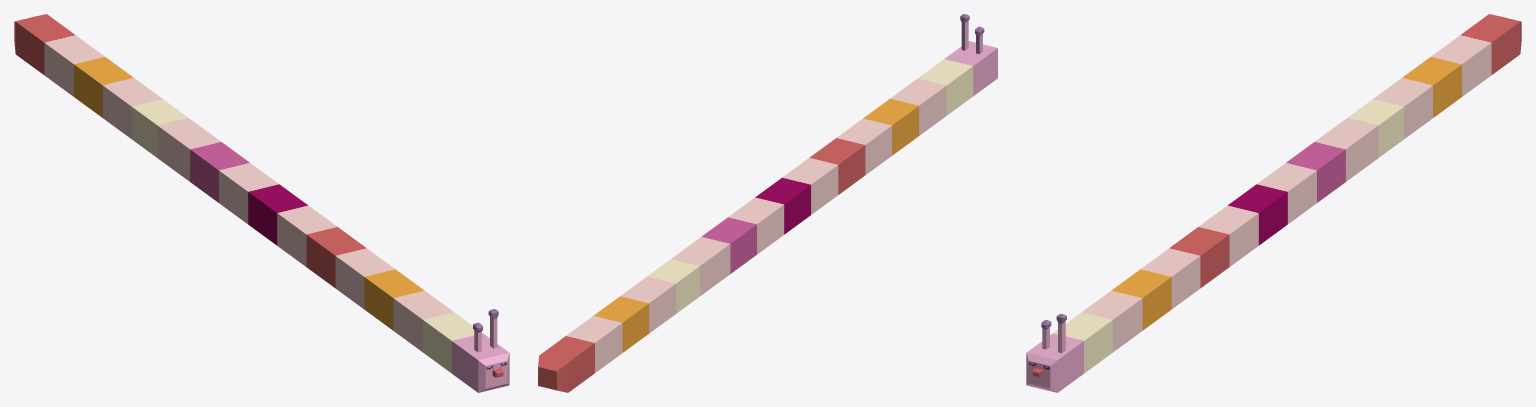
File: lesbianworm.glb
3 views of the same model, side by side, from view 1: azimuth 30°, elevation 25°; view 2: azimuth 150°, elevation 25°; view 3: azimuth 330°, elevation 25° (orthographic). The views are drawn at different scales.
Parts seen in each view (by area): view 1: Cube; view 2: Cube; view 3: Cube.
Boxes of the visible parts, x1,y1,x2,y2 form: Cube: [14, 14, 509, 392]; Cube: [538, 14, 997, 392]; Cube: [1026, 14, 1521, 392].
Bounding box in the file's own units: 13.9 × 29.35 × 366.
1 material, 1 textured.
